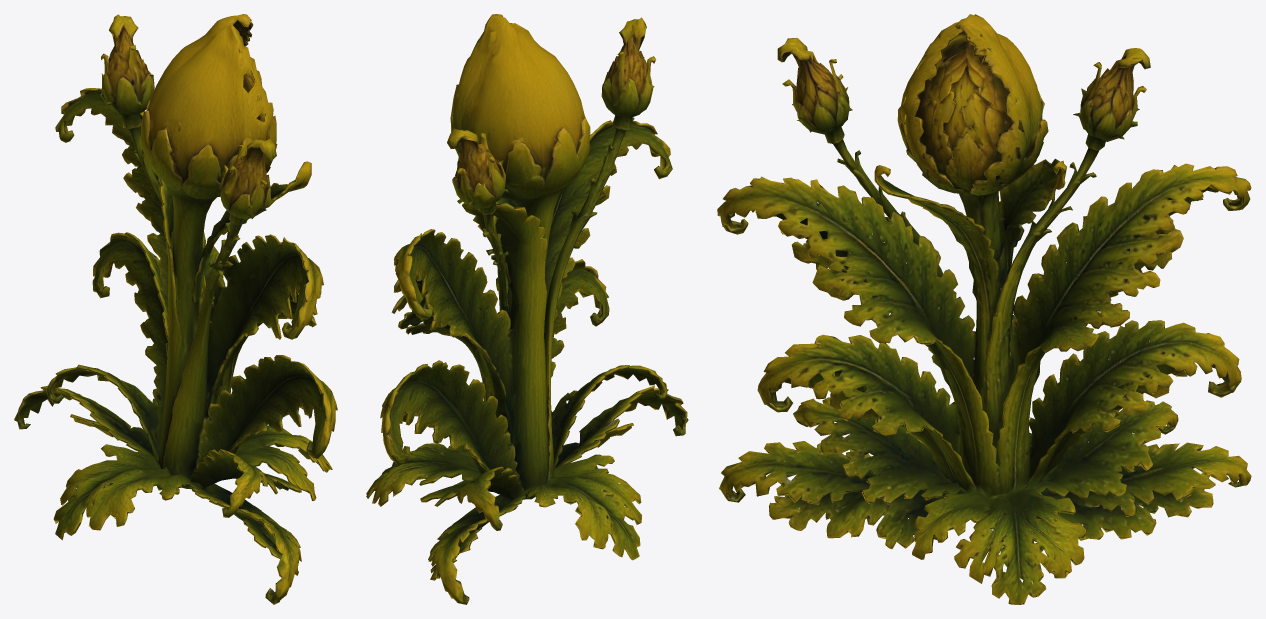
File: ornamental+plant+3d+model.glb
The picture shows the model from 3 angles, left to right: view 1: azimuth 30°, elevation 25°; view 2: azimuth 150°, elevation 25°; view 3: azimuth 270°, elevation 25°; orthographic projection. The views are drawn at different scales.
Parts seen in each view (by area): view 1: tripo_node_57404bb1-6ad7-412e-bb12-acd40f5e27a9; view 2: tripo_node_57404bb1-6ad7-412e-bb12-acd40f5e27a9; view 3: tripo_node_57404bb1-6ad7-412e-bb12-acd40f5e27a9.
Part boxes in pixels (bbox=[...]): tripo_node_57404bb1-6ad7-412e-bb12-acd40f5e27a9: bbox=[14, 14, 337, 604]; tripo_node_57404bb1-6ad7-412e-bb12-acd40f5e27a9: bbox=[366, 14, 688, 604]; tripo_node_57404bb1-6ad7-412e-bb12-acd40f5e27a9: bbox=[717, 14, 1251, 604].
Size of the model in its own units: 0.5668 by 1 by 0.9061.
Materials: 1 (1 with a texture image).
